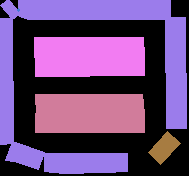parkingspot: (18, 0, 170, 19), (165, 17, 186, 128), (35, 55, 144, 76), (34, 37, 144, 57), (35, 94, 144, 114), (35, 113, 144, 132), (44, 153, 127, 173), (0, 18, 13, 144), (5, 141, 44, 169), (148, 131, 180, 164), (0, 0, 20, 19)
